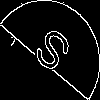S: (25, 25, 75, 82)
